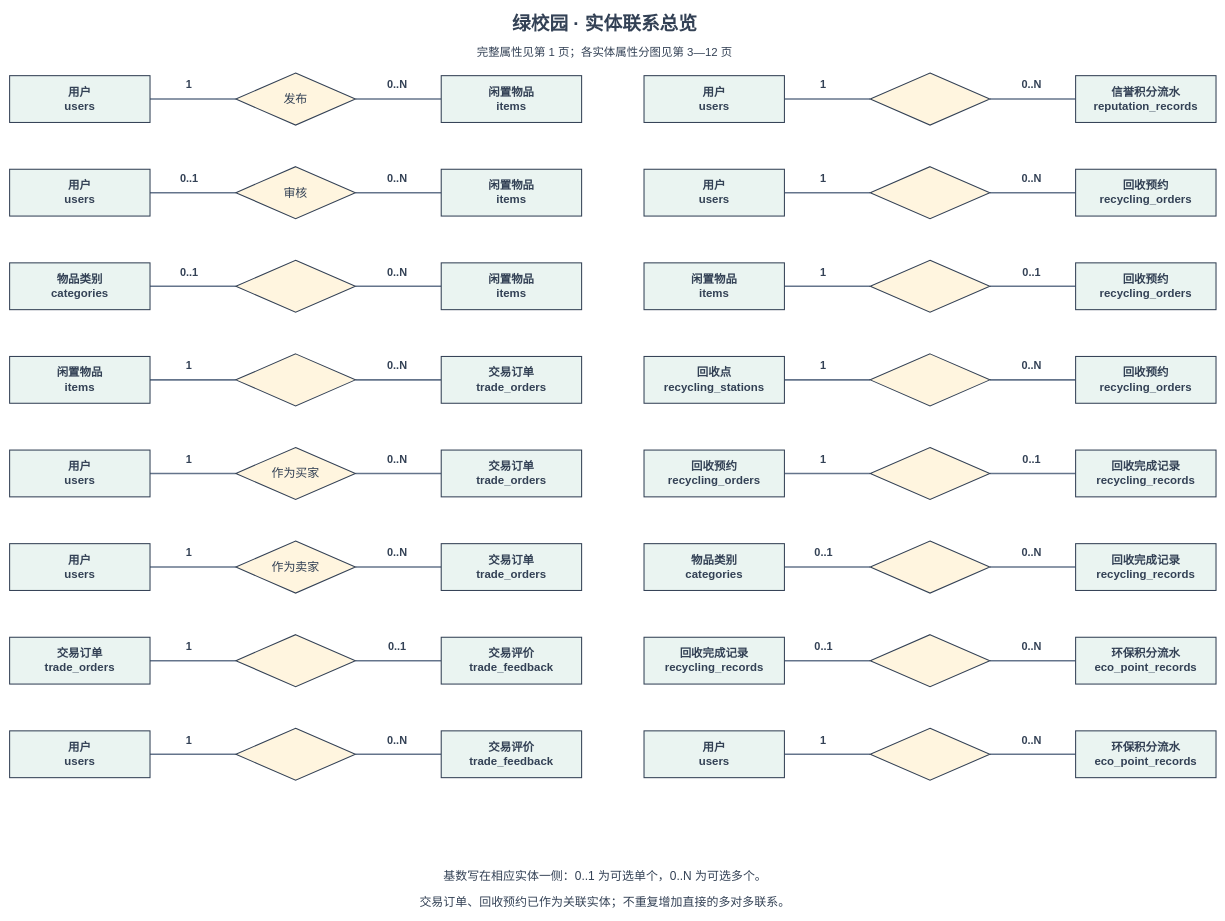
Image size: 1225x921. Some labels were removed from this diagram. Each missing label, with the centre of its shape:
"产生交易" belongs at (295,379).
"信誉变更" belongs at (929,98).
"具有评价" belongs at (295,660).
"受理预约" belongs at (929,379).
"回收分类" belongs at (929,566).
"完成生成" belongs at (929,473).
"提交评价" belongs at (295,754).
"提交预约" belongs at (929,192).
"物品分类" belongs at (295,286).
"环保积分" belongs at (929,754).
"申请回收" belongs at (929,286).
"积分来源" belongs at (929,660).
